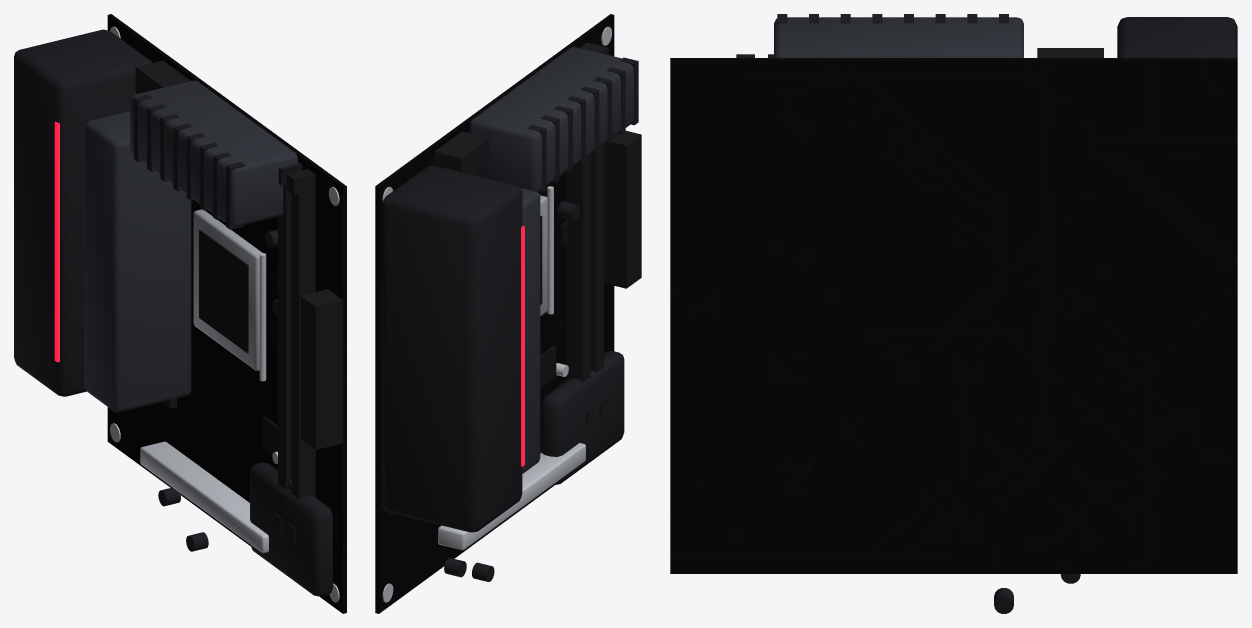
Rendered from board-itx.glb.
The picture shows the model from 3 angles, left to right: view 1: azimuth 30°, elevation 25°; view 2: azimuth 150°, elevation 25°; view 3: azimuth 270°, elevation 25°; orthographic projection. The views are drawn at different scales.
Parts seen in each view (by area): view 1: board_itx_pcb; view 2: board_itx_pcb; view 3: board_itx_pcb.
Boxes of the visible parts, x1,y1,x2,y2 form: board_itx_pcb: (14,14,346,613); board_itx_pcb: (375,14,641,613); board_itx_pcb: (670,14,1237,613).
Bounding box in the file's own units: 0.0425 × 0.1851 × 0.17.
Materials: 8 (1 with a texture image).
